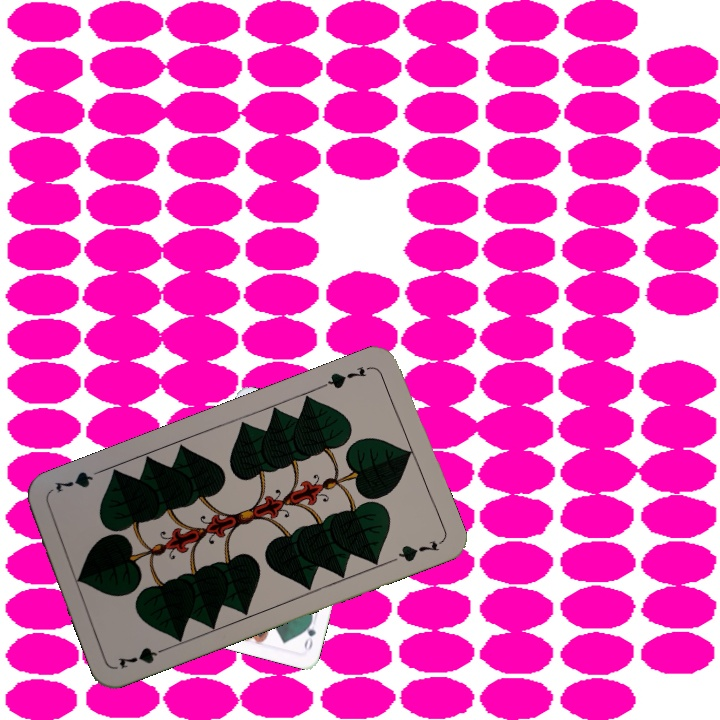G7: (318, 361, 375, 391), (114, 642, 172, 671)
GO: (300, 613, 318, 654)
